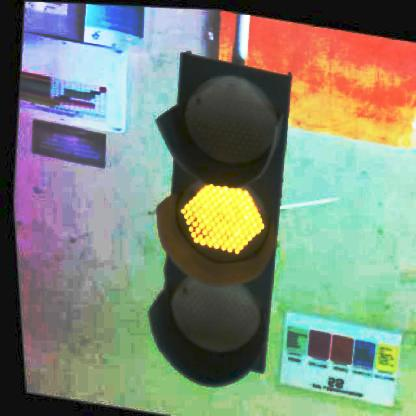Traffic Light -Yellow-: (124, 51, 309, 396)
